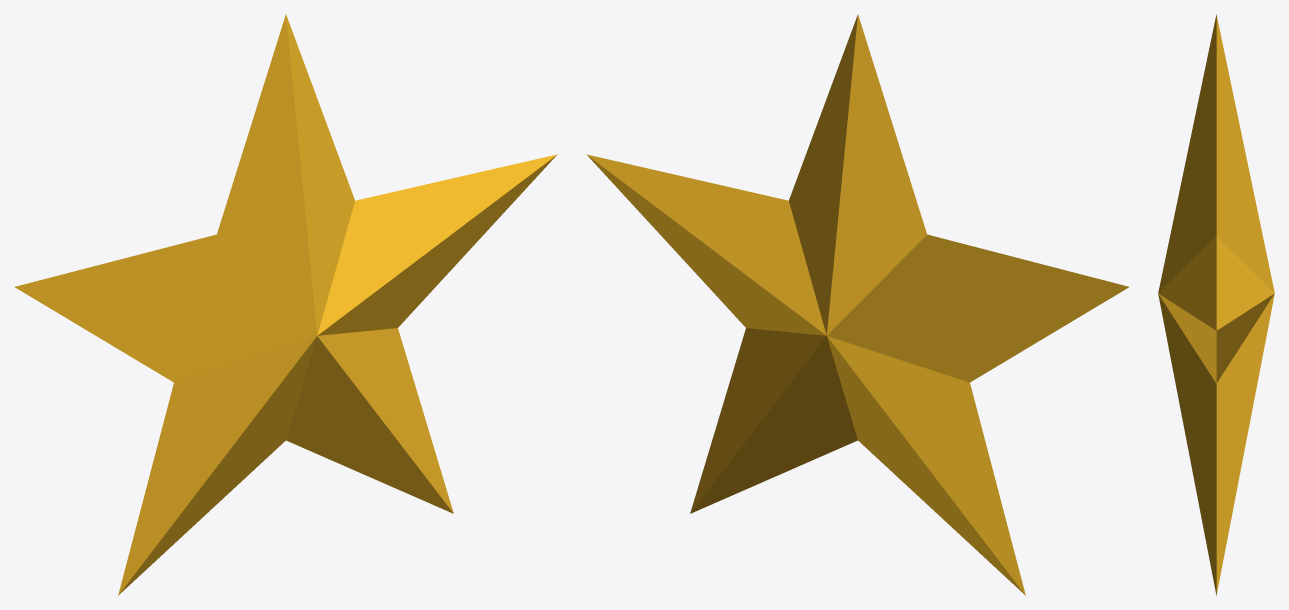
File: star#0004.fbx
3 renders of one model, left to right at view 1: azimuth 30°, elevation 25°; view 2: azimuth 150°, elevation 25°; view 3: azimuth 270°, elevation 25°, orthographic. The views are drawn at different scales.
Visible parts, largest first — view 1: star; view 2: star; view 3: star.
Part boxes in pixels (box(x1,y1,x2,y2)): star: box(15, 14, 557, 595); star: box(586, 14, 1128, 595); star: box(1158, 14, 1274, 595).
Bounding box in the file's own units: 195 × 185 × 38.76.
